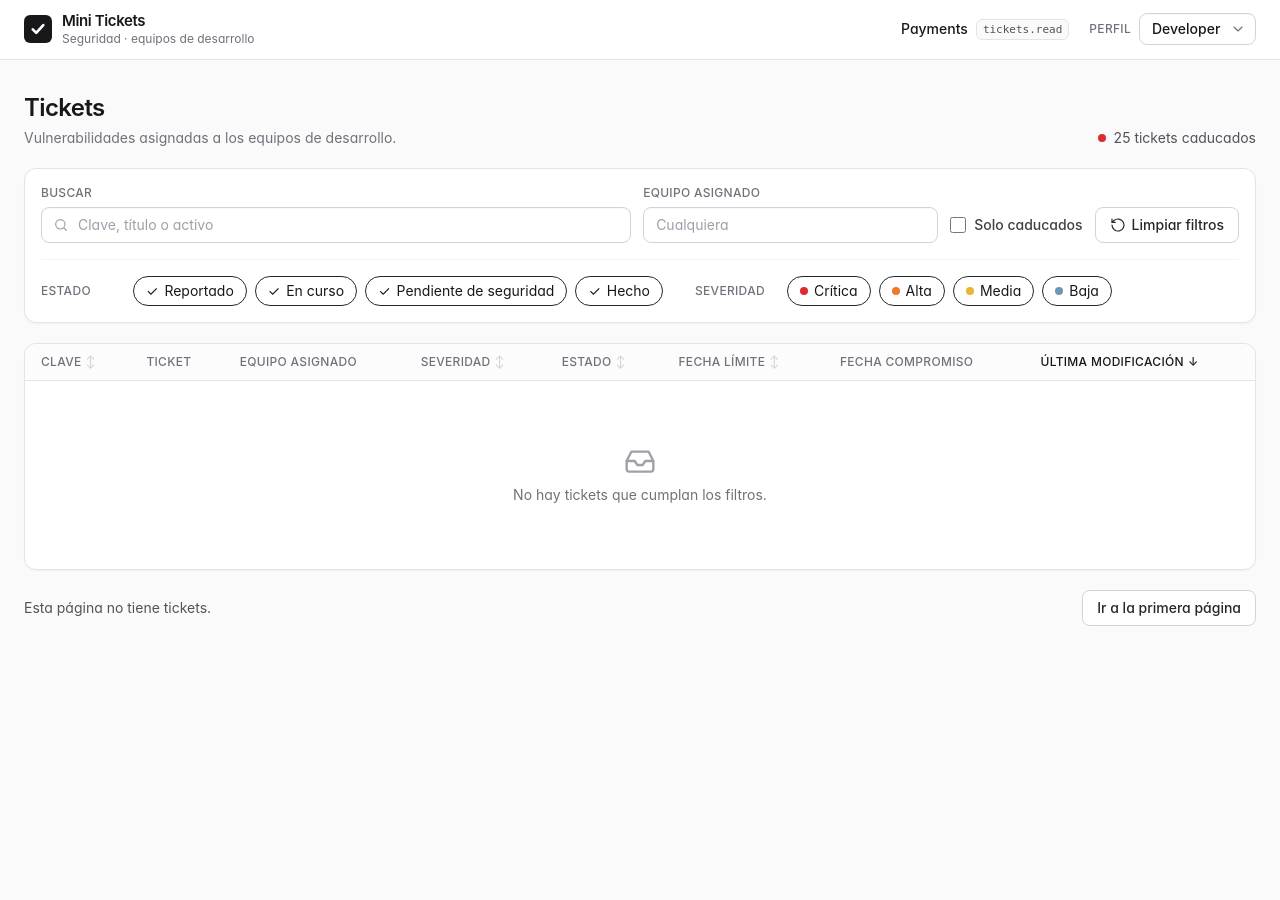
Test: pagination › a page past the end offers the first one
Check: the text "Esta página no tiene tickets." is shown, box [24,598,211,618]
Click the button "Ir a la primera página" at (1169, 608), box [1082,590,1256,626]
(page scrolled)
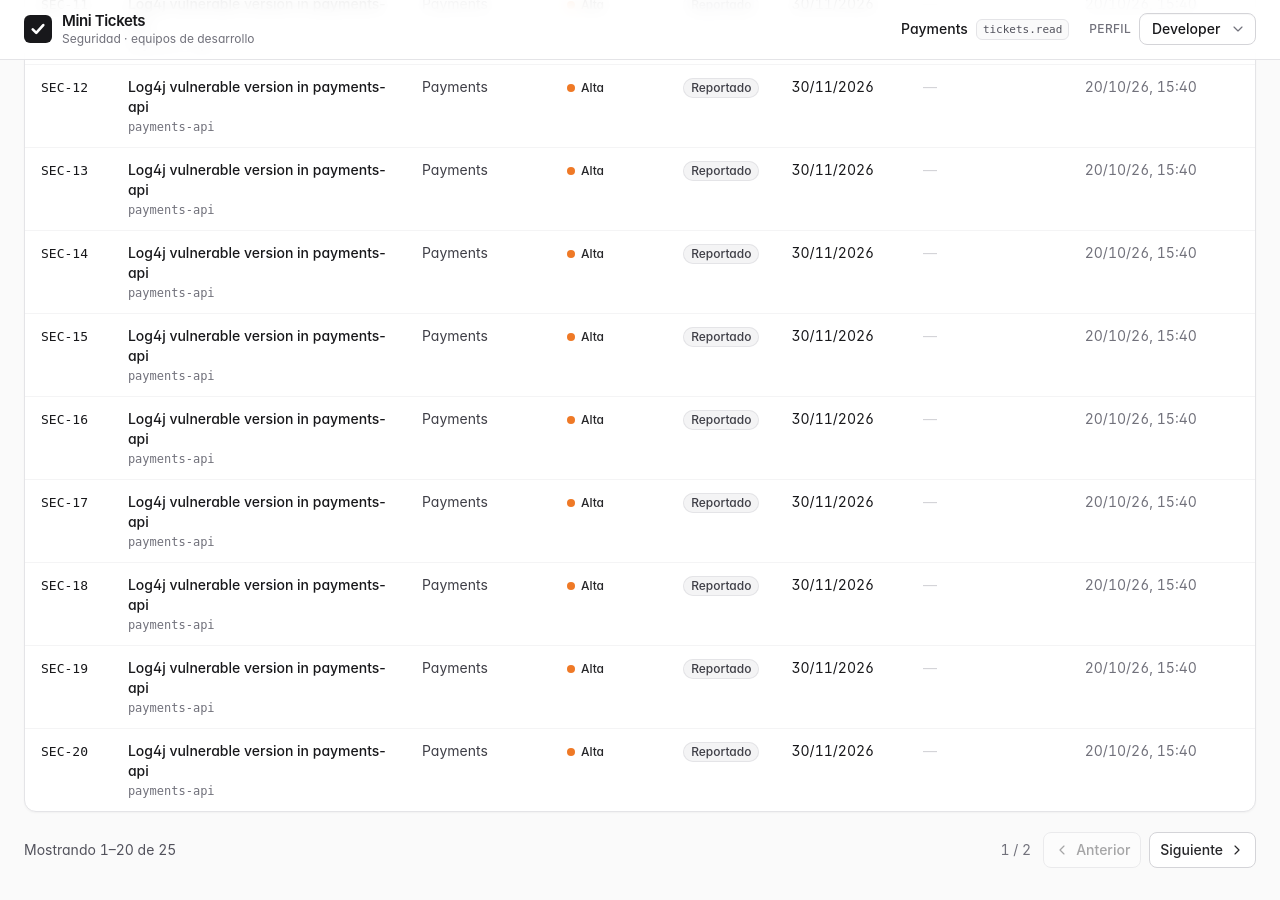
Check: the text "Mostrando 1–20 de 25" is shown, box [24,840,176,860]
